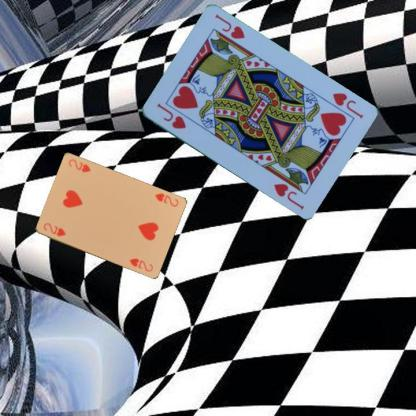2h: (152, 191, 180, 208), (40, 220, 66, 238)
Jh: (154, 100, 187, 131), (330, 90, 364, 120)
